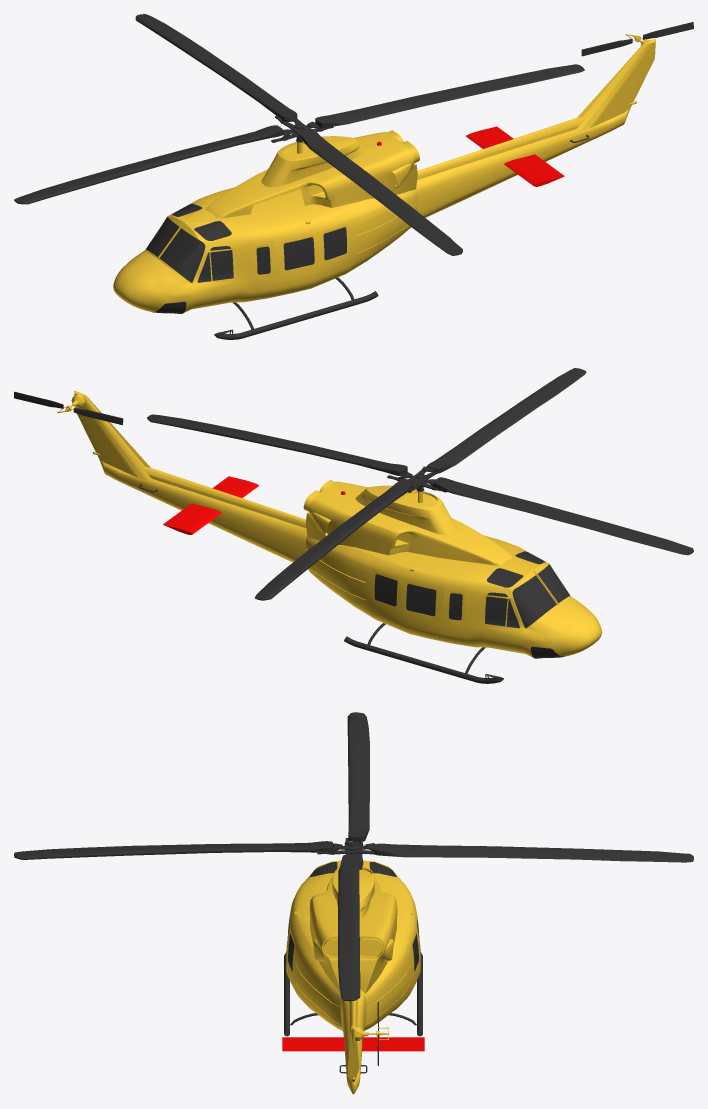
The model's file is helicopter.glb.
3 views of the same model, one above another, from view 1: azimuth 30°, elevation 25°; view 2: azimuth 150°, elevation 25°; view 3: azimuth 270°, elevation 25° (orthographic). The views are drawn at different scales.
Visible parts, largest first — view 1: body, rotor, upper, siderotor; view 2: body, upper, rotor, siderotor; view 3: rotor, body, upper.
Part boxes in pixels (<box>): body: <box>113,38,655,313</box>; rotor: <box>14,14,584,255</box>; upper: <box>205,101,636,339</box>; siderotor: <box>581,22,693,56</box>; body: <box>74,390,601,658</box>; upper: <box>93,452,511,683</box>; rotor: <box>147,368,693,600</box>; siderotor: <box>14,391,123,425</box>; rotor: <box>14,712,693,1001</box>; body: <box>286,860,420,1094</box>; upper: <box>282,866,424,1081</box>.
Bounding box in the file's own units: 5.59 × 1.32 × 4.58.
